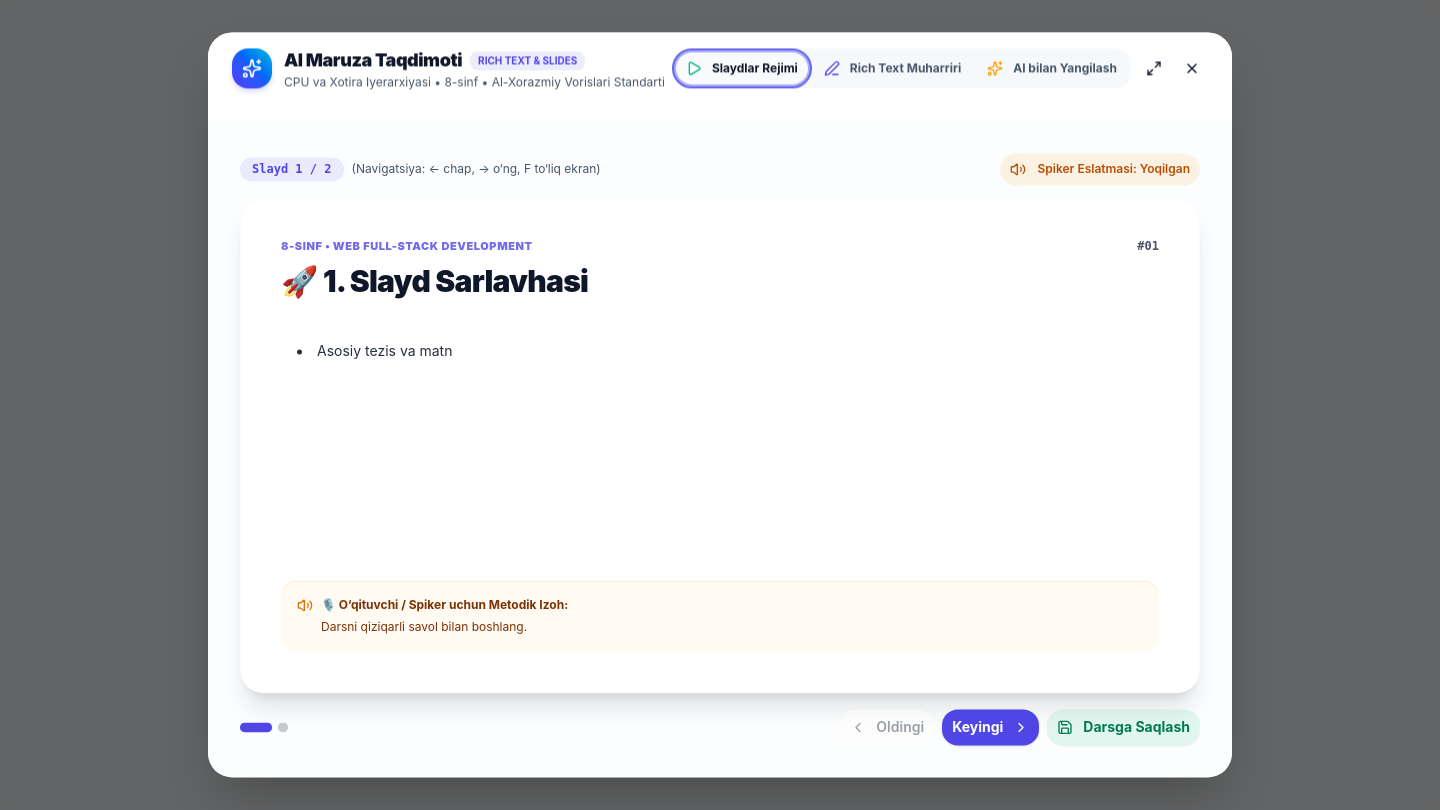
Test: AiPresentationModal Component › switches to Rich Text Editor tab and updates markdown content
Note: Click editor tab
Click the button "Rich Text Muharriri".
click(893, 68)  # box 814,52 -> 971,84
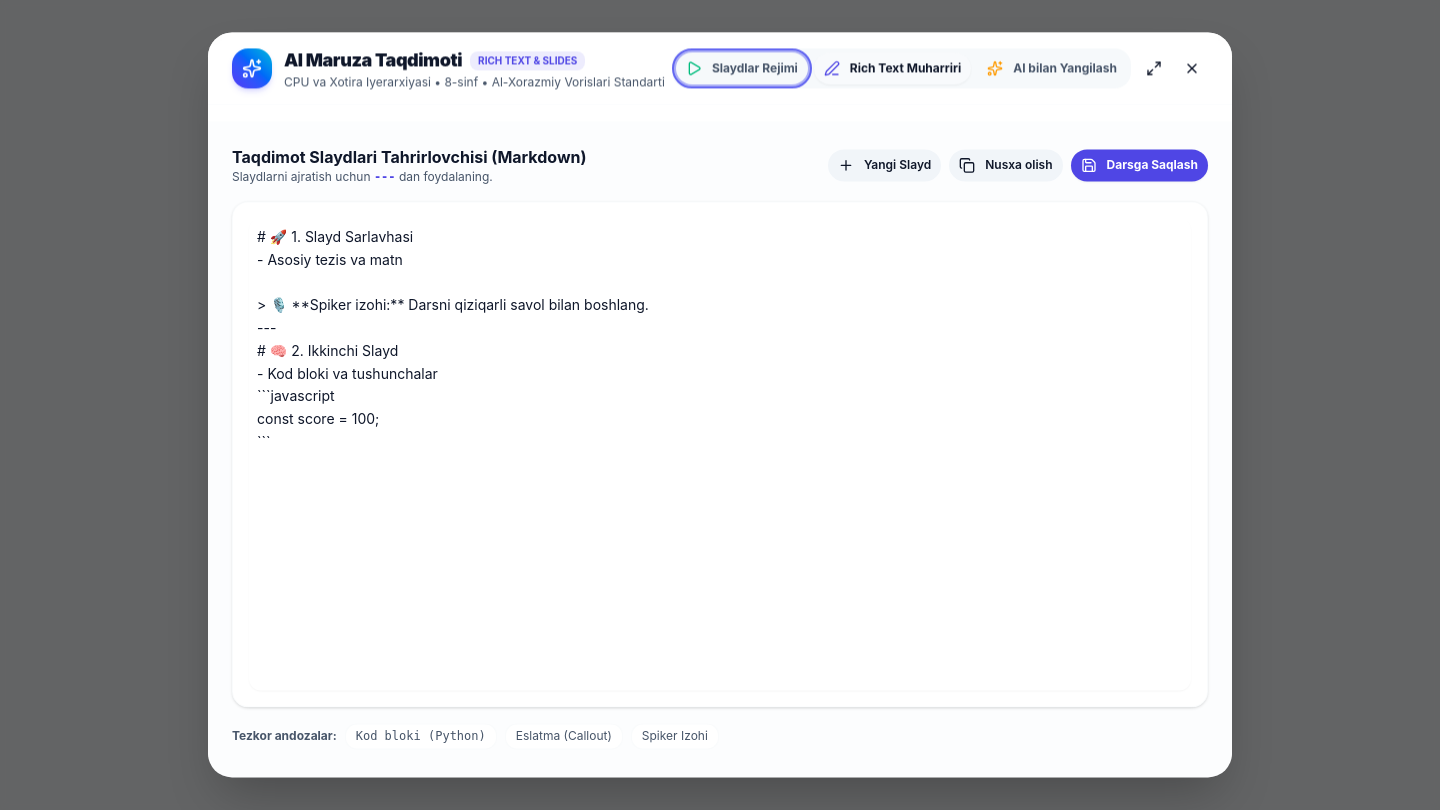
expect the heading "Taqdimot Slaydlari Tahrirlovchisi (Markdown)" is shown: met, box 232,145 -> 587,169
expect the text box with placeholder "Slaydlar matnini Markdown formatida kiriting..." is shown: met, box 249,218 -> 1191,691
